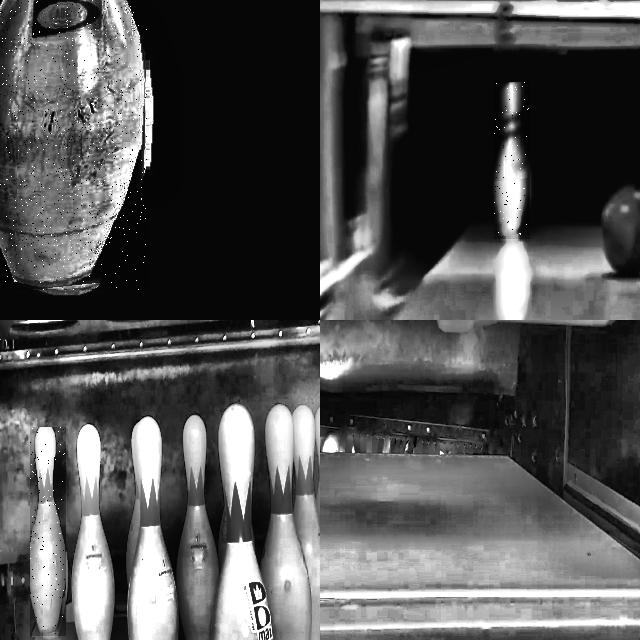bowling-ball: (602, 185, 640, 275)
bowling-pins: (211, 404, 275, 640), (261, 404, 312, 640), (128, 417, 179, 640), (177, 414, 219, 640), (72, 424, 115, 640), (30, 428, 66, 634), (293, 405, 320, 640), (494, 83, 530, 237)
